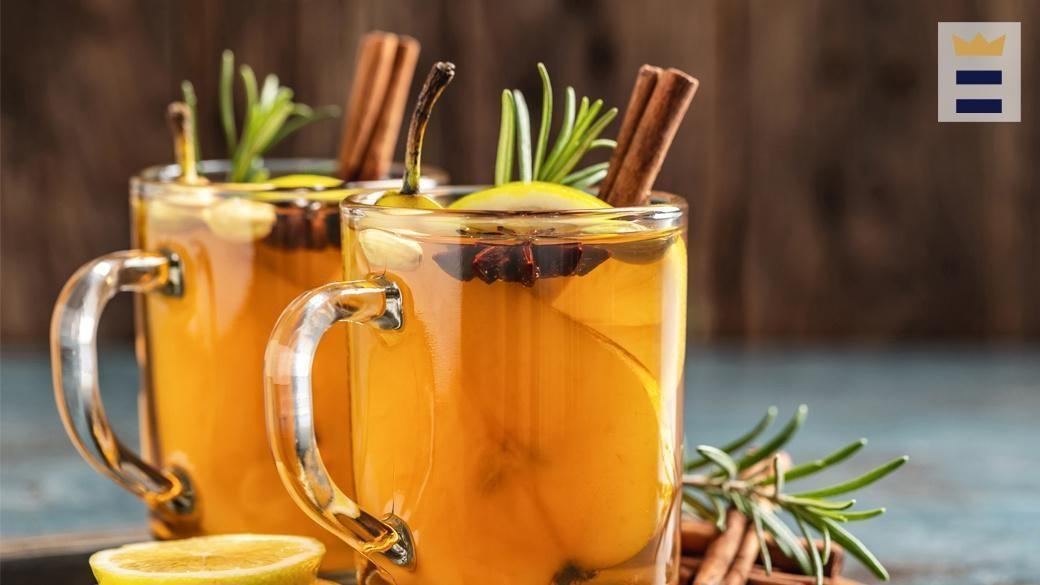glass-mug: (268, 179, 697, 584), (50, 158, 357, 577)
